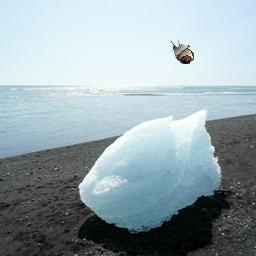Swallow: (170, 40, 194, 64)
